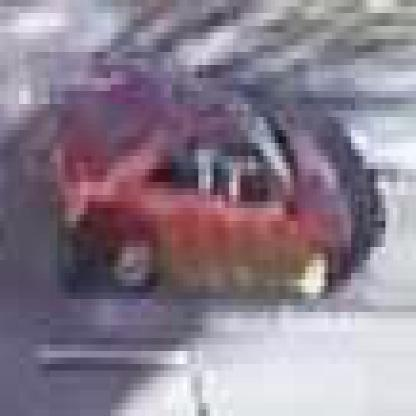car: (55, 92, 352, 306)
